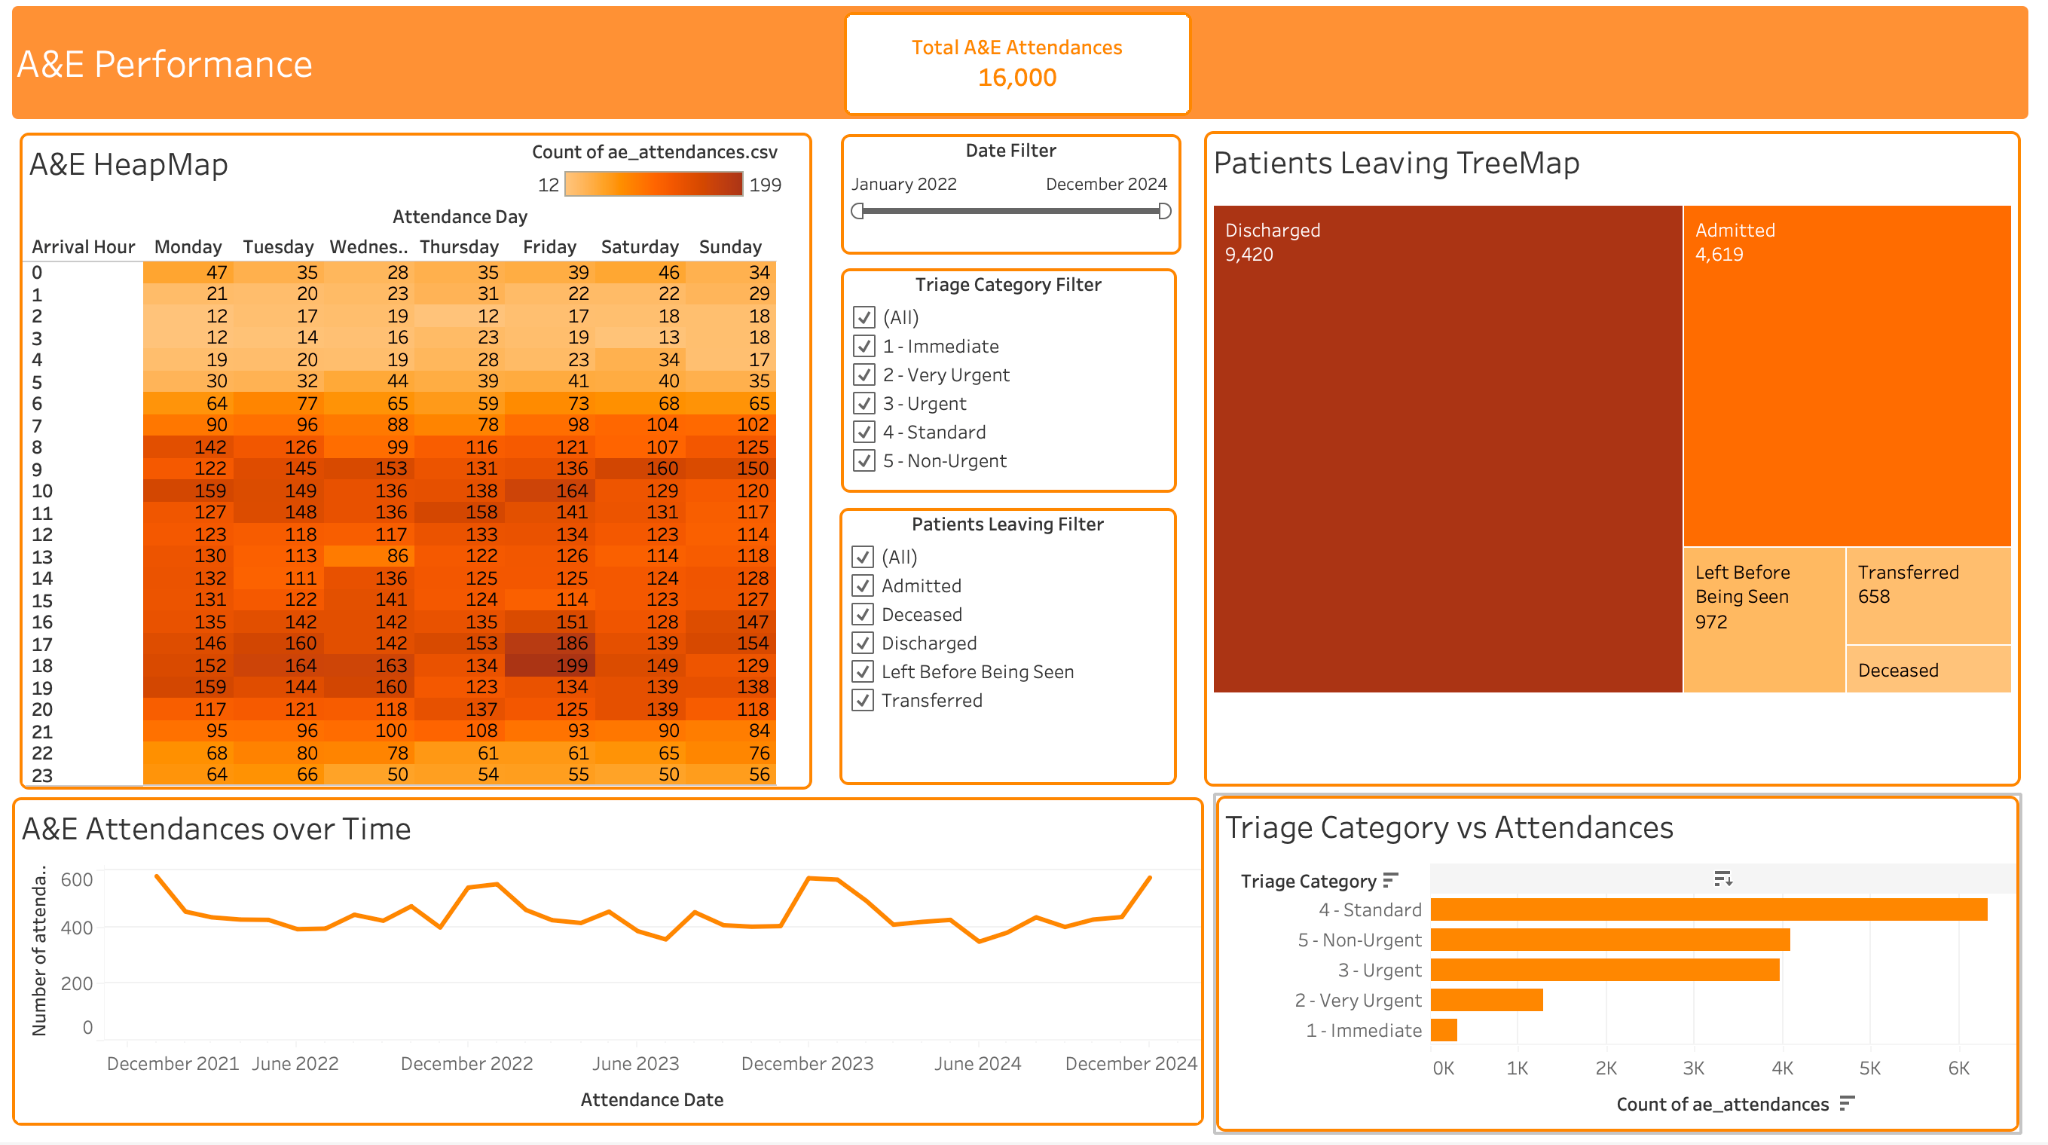

What the dashboard file says about the page in this screenshot:
{"tool":"tableau","page":{"name":"A&E Perfromance","canvas":[1366,768],"ordinal":0},"visuals":[{"type":"title","box":[8,8,1350,87]},{"type":"worksheet","title":"total attendance","mark":"Automatic","box":[566,18,231,69]},{"type":"worksheet","title":"Patients Leaving TreeMap","mark":"Automatic","box":[805,97,542,435]},{"type":"worksheet","title":"A&E Heatmap","mark":"Square","rows":["Arrival_Hour"],"cols":["Attendance_Day"],"box":[19,98,526,436]},{"type":"filter","title":"Attendance over time","param":"[federated.13hdti91bh6b9e192l6m6049hwfh].[tmn:Attendance_Date:qk]","box":[564,99,226,80]},{"type":"legend","title":"A&E Heatmap","param":"[federated.13hdti91bh6b9e192l6m6049hwfh].[__tableau_internal_object_id__].[cnt:a","box":[359,102,171,51]},{"type":"filter","title":"Urgency Mix","param":"[federated.13hdti91bh6b9e192l6m6049hwfh].[none:Triage_Category:nk]","box":[564,188,223,149]},{"type":"filter","title":"Patients Leaving TreeMap","param":"[federated.13hdti91bh6b9e192l6m6049hwfh].[none:Disposal:nk]","box":[563,347,224,184]},{"type":"worksheet","title":"Urgency Mix","mark":"Automatic","rows":["Triage_Category"],"cols":["ae_attendances.csv_2563221B84934C94BC34A6BDC19C8EC2"],"box":[813,538,533,223]},{"type":"worksheet","title":"Attendance over time","mark":"Automatic","rows":["ae_attendances.csv_2563221B84934C94BC34A6BDC19C8EC2"],"cols":["Attendance_Date"],"box":[14,539,791,218]}]}

Visuals, with their boxes in screenshot pixels (x1, y1, x2, y2), scaled from the page's 1366x768 canvas onto the 2048x1145 screenshot:
title: [left=12, top=12, right=2036, bottom=142]
"total attendance" worksheet: [left=849, top=27, right=1195, bottom=130]
"Patients Leaving TreeMap" worksheet: [left=1207, top=145, right=2020, bottom=793]
"A&E Heatmap" worksheet (Square marks): [left=28, top=146, right=817, bottom=796]
"Attendance over time" filter: [left=846, top=148, right=1184, bottom=267]
"A&E Heatmap" legend: [left=538, top=152, right=795, bottom=228]
"Urgency Mix" filter: [left=846, top=280, right=1180, bottom=502]
"Patients Leaving TreeMap" filter: [left=844, top=517, right=1180, bottom=792]
"Urgency Mix" worksheet: [left=1219, top=802, right=2018, bottom=1135]
"Attendance over time" worksheet: [left=21, top=804, right=1207, bottom=1129]
